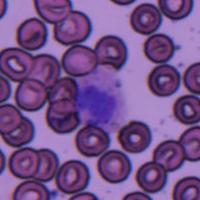N: (76, 68, 127, 130)
